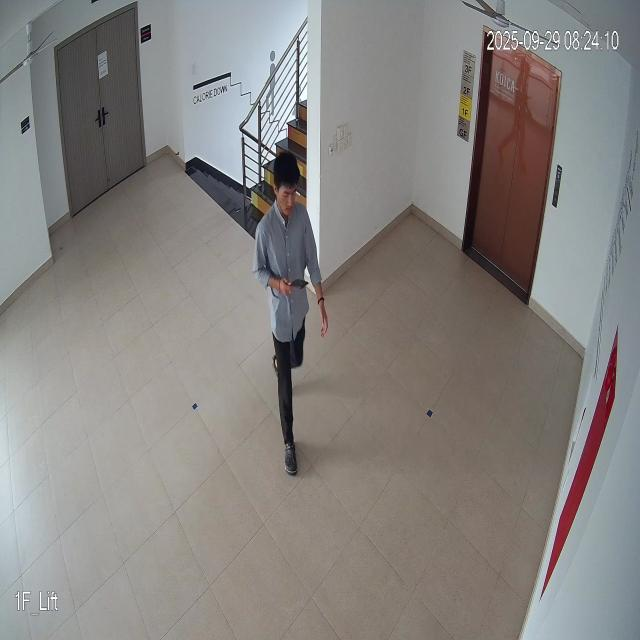face: (272, 139, 304, 226)
